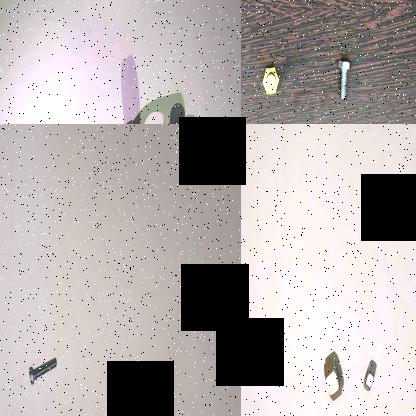Bolts: (26, 350, 57, 388), (332, 52, 354, 101), (262, 56, 284, 99)
NUTS: (316, 348, 346, 404), (359, 356, 379, 402)
